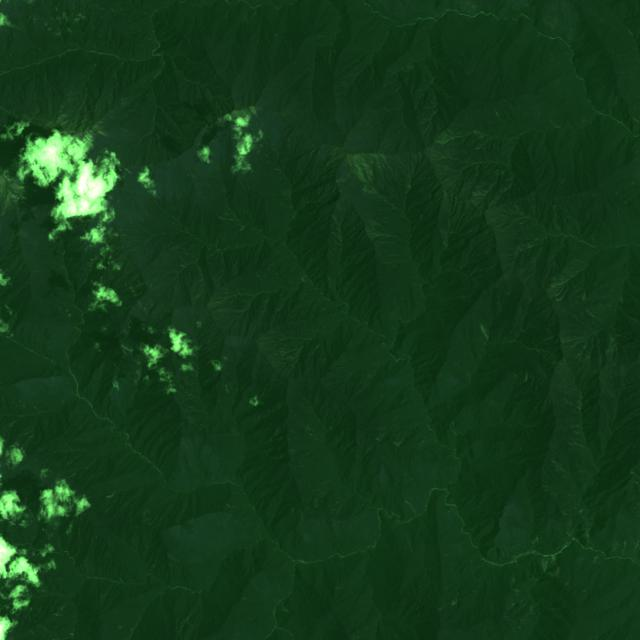landslides: (552, 461, 571, 475), (404, 500, 418, 516), (556, 289, 567, 301), (480, 323, 488, 339), (554, 285, 565, 296)
